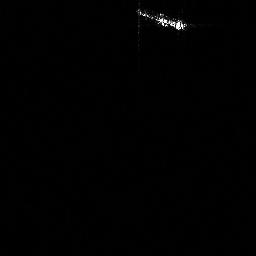ship: (133, 4, 193, 36)
